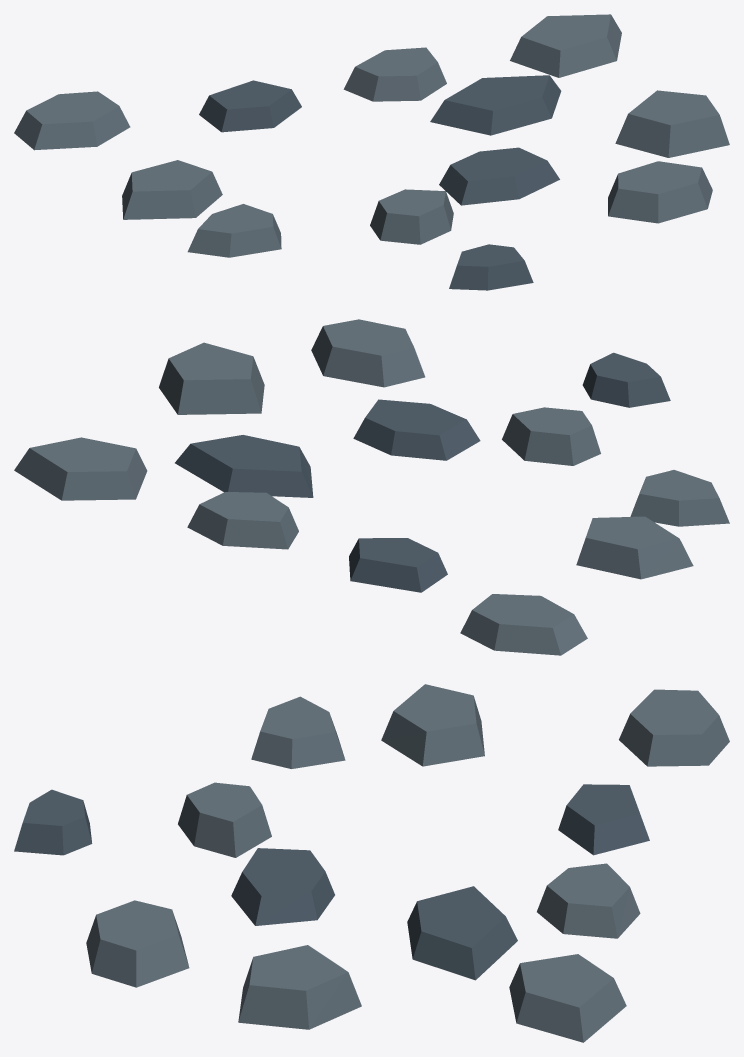
File: plant_bryolux_b.obj
3 renders of one model, top to bottom at view 1: azimuth 30°, elevation 25°; view 2: azimuth 150°, elevation 25°; view 3: azimuth 270°, elevation 25°, orthographic. The views are drawn at different scales.
Visible parts, largest first — view 1: plant_bryolux_b_9, plant_bryolux_b_8, plant_bryolux_b_11, plant_bryolux_b_7, plant_bryolux_b_4, plant_bryolux_b_6, plant_bryolux_b_5, plant_bryolux_b_10, plant_bryolux_b_3, plant_bryolux_b_2, plant_bryolux_b_1, plant_bryolux_b_0; view 2: plant_bryolux_b_11, plant_bryolux_b_9, plant_bryolux_b_8, plant_bryolux_b_7, plant_bryolux_b_4, plant_bryolux_b_6, plant_bryolux_b_5, plant_bryolux_b_10, plant_bryolux_b_2, plant_bryolux_b_3, plant_bryolux_b_1, plant_bryolux_b_0; view 3: plant_bryolux_b_8, plant_bryolux_b_11, plant_bryolux_b_9, plant_bryolux_b_7, plant_bryolux_b_4, plant_bryolux_b_5, plant_bryolux_b_6, plant_bryolux_b_10, plant_bryolux_b_2, plant_bryolux_b_1, plant_bryolux_b_3, plant_bryolux_b_0.
Part boxes in pixels (x1=…): plant_bryolux_b_9: x1=430, y1=75, x2=561, y2=135; plant_bryolux_b_8: x1=615, y1=90, x2=729, y2=157; plant_bryolux_b_11: x1=510, y1=14, x2=621, y2=77; plant_bryolux_b_7: x1=608, y1=161, x2=712, y2=223; plant_bryolux_b_4: x1=14, y1=91, x2=130, y2=150; plant_bryolux_b_6: x1=439, y1=147, x2=559, y2=205; plant_bryolux_b_5: x1=122, y1=160, x2=222, y2=219; plant_bryolux_b_10: x1=343, y1=47, x2=446, y2=101; plant_bryolux_b_3: x1=199, y1=80, x2=301, y2=132; plant_bryolux_b_2: x1=370, y1=189, x2=453, y2=244; plant_bryolux_b_1: x1=187, y1=204, x2=281, y2=257; plant_bryolux_b_0: x1=449, y1=244, x2=533, y2=290; plant_bryolux_b_11: x1=14, y1=437, x2=147, y2=500; plant_bryolux_b_9: x1=175, y1=435, x2=313, y2=497; plant_bryolux_b_8: x1=159, y1=342, x2=264, y2=414; plant_bryolux_b_7: x1=311, y1=319, x2=425, y2=387; plant_bryolux_b_4: x1=460, y1=594, x2=587, y2=655; plant_bryolux_b_6: x1=353, y1=399, x2=480, y2=460; plant_bryolux_b_5: x1=576, y1=516, x2=693, y2=579; plant_bryolux_b_10: x1=187, y1=492, x2=298, y2=549; plant_bryolux_b_2: x1=502, y1=407, x2=600, y2=465; plant_bryolux_b_3: x1=349, y1=538, x2=447, y2=592; plant_bryolux_b_1: x1=630, y1=470, x2=729, y2=526; plant_bryolux_b_0: x1=582, y1=352, x2=670, y2=407; plant_bryolux_b_8: x1=238, y1=945, x2=361, y2=1029; plant_bryolux_b_11: x1=509, y1=954, x2=626, y2=1042; plant_bryolux_b_9: x1=407, y1=886, x2=517, y2=980; plant_bryolux_b_7: x1=86, y1=900, x2=189, y2=987; plant_bryolux_b_4: x1=619, y1=689, x2=729, y2=766; plant_bryolux_b_5: x1=381, y1=684, x2=484, y2=766; plant_bryolux_b_6: x1=231, y1=848, x2=334, y2=925; plant_bryolux_b_10: x1=537, y1=863, x2=640, y2=938; plant_bryolux_b_2: x1=178, y1=782, x2=271, y2=857; plant_bryolux_b_1: x1=251, y1=696, x2=345, y2=768; plant_bryolux_b_3: x1=558, y1=784, x2=649, y2=855; plant_bryolux_b_0: x1=14, y1=789, x2=92, y2=855.
Bounding box in the file's own units: 0.9743 × 0.0464 × 0.8776.
